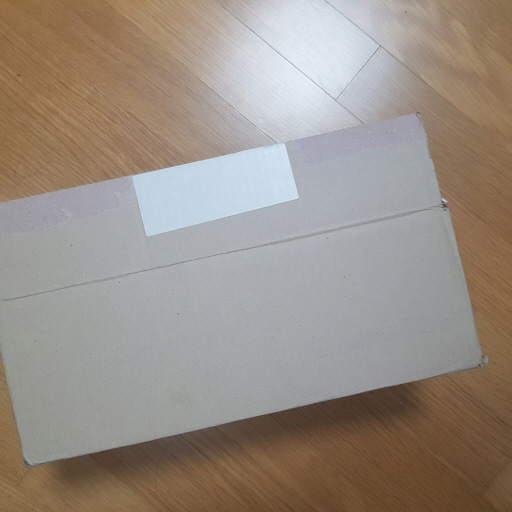Paper_0: (2, 111, 493, 476)
